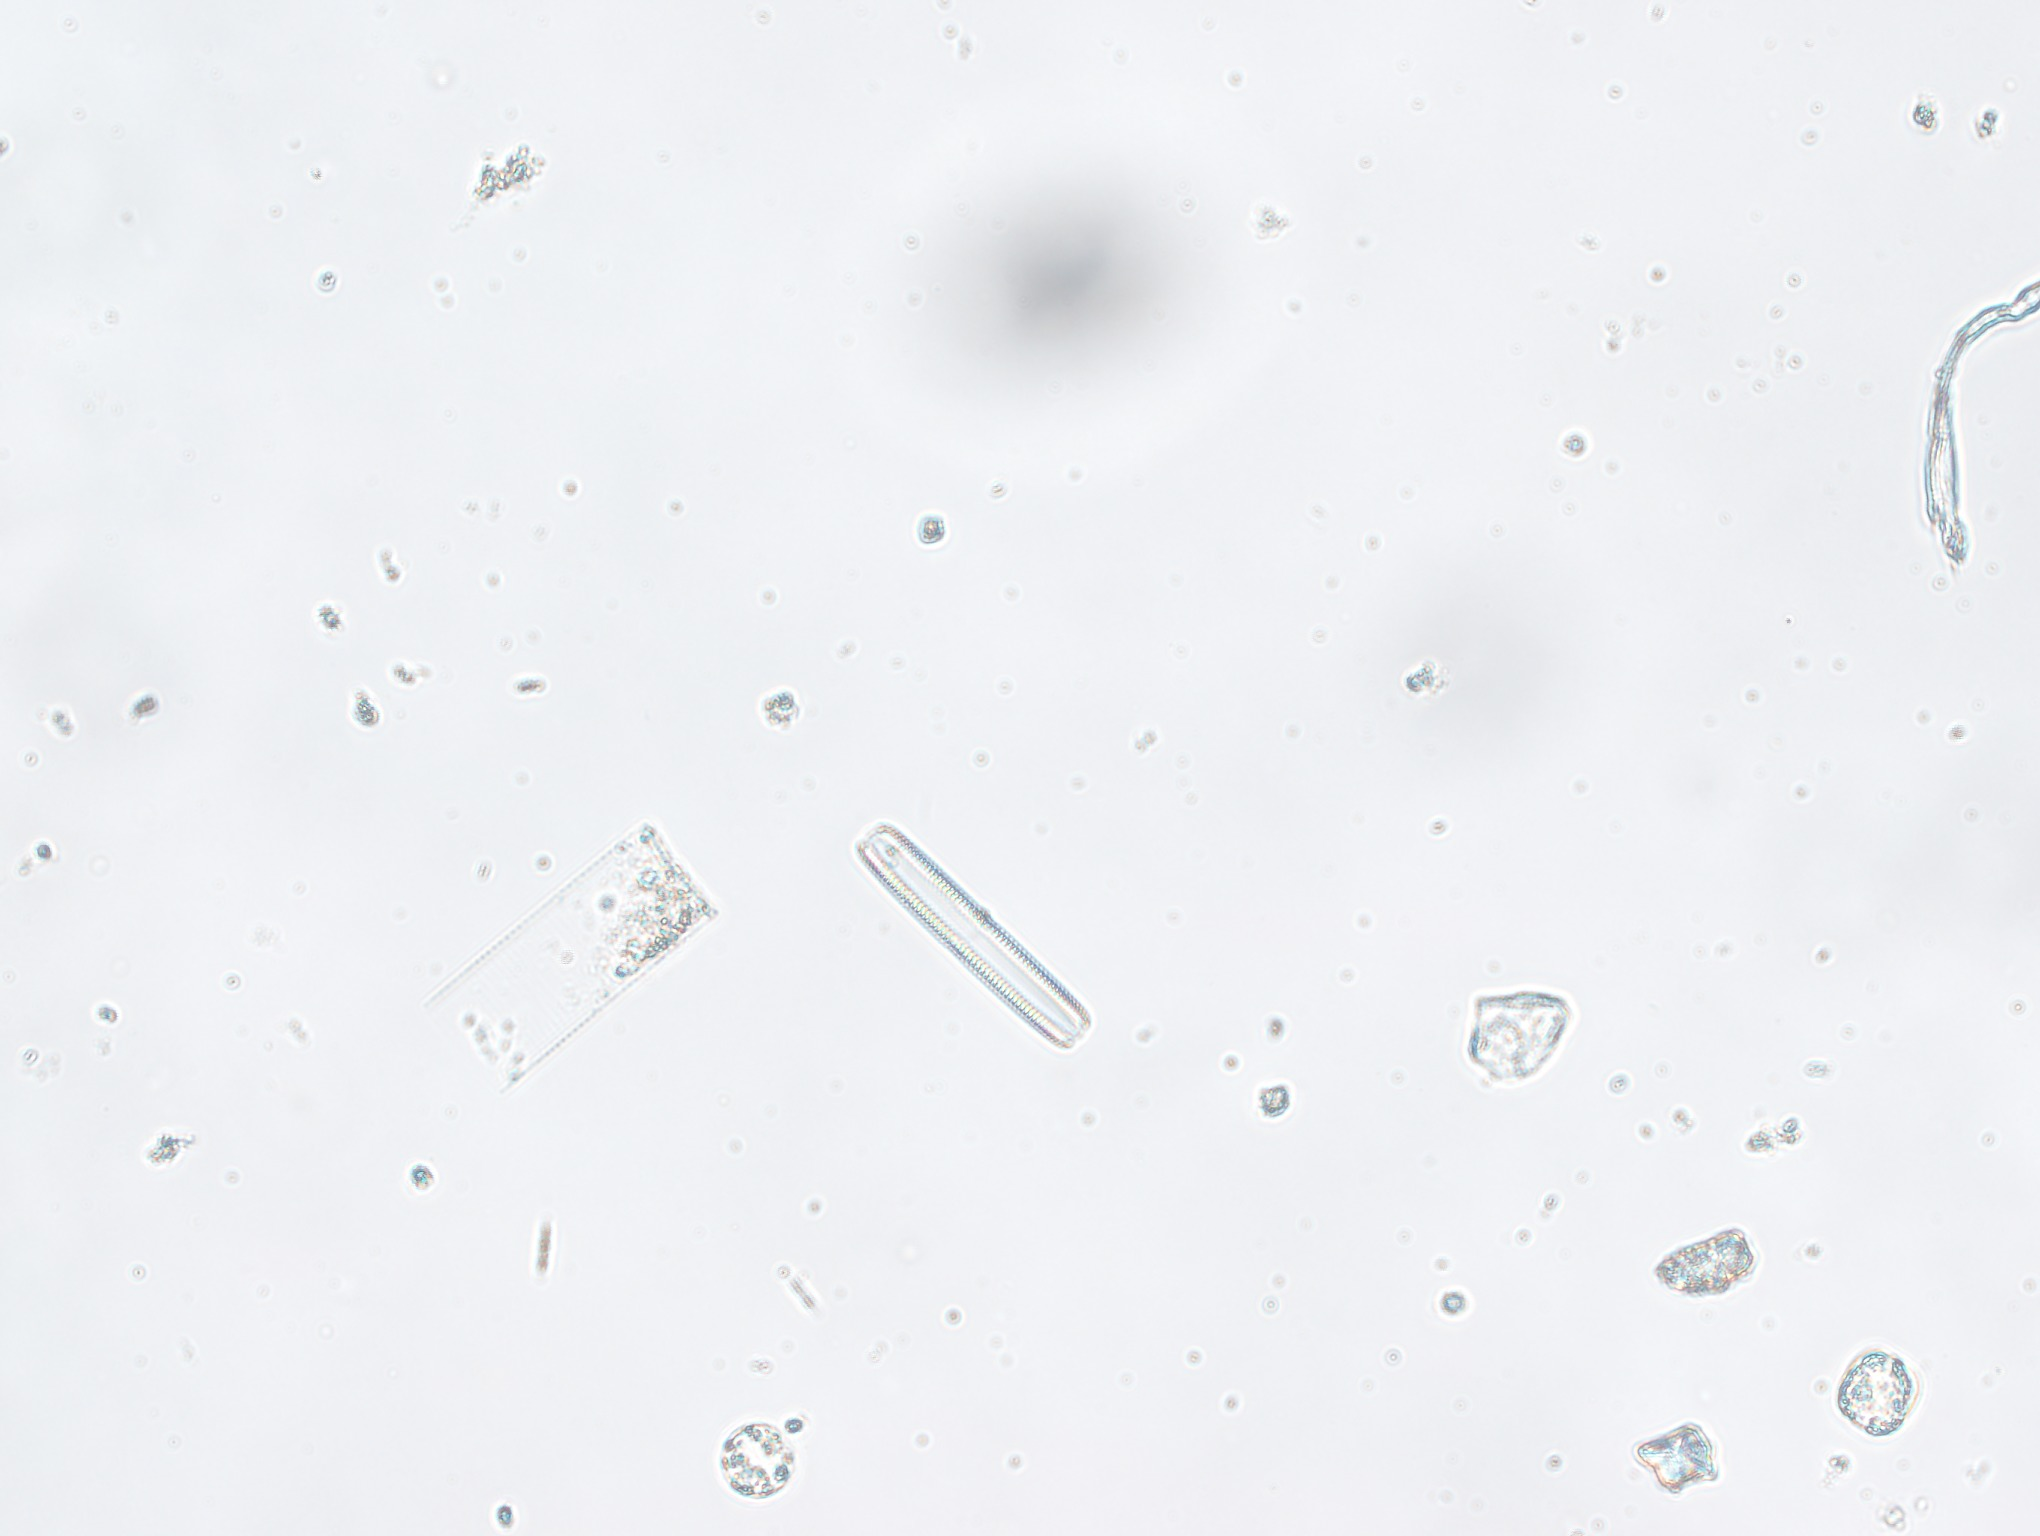guinardia flaccida: (410, 808, 732, 1092)
